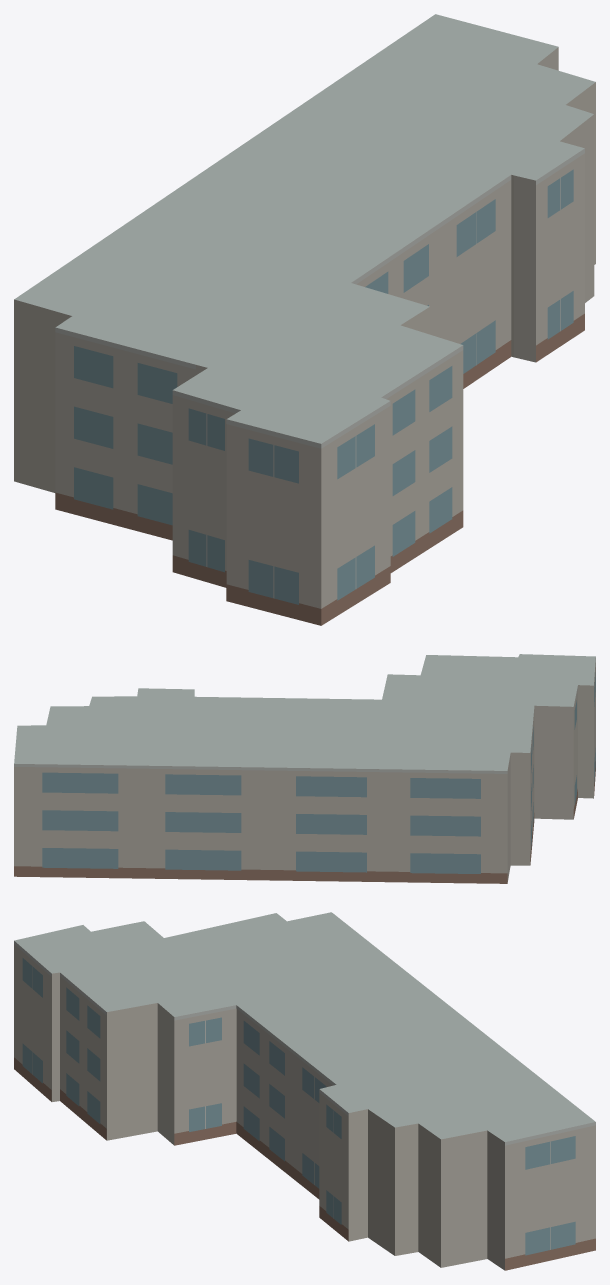
File: survey-upis-32998382.glb
3 views of the same model, one above another, from view 1: azimuth 30°, elevation 25°; view 2: azimuth 150°, elevation 25°; view 3: azimuth 270°, elevation 25° (orthographic). The views are drawn at different scales.
Visible parts, largest first — view 1: survey-upis-32998382.tmp; view 2: survey-upis-32998382.tmp; view 3: survey-upis-32998382.tmp.
Part boxes in pixels (x1,y1,x2,y2): survey-upis-32998382.tmp: (14,14,595,625); survey-upis-32998382.tmp: (14,654,595,883); survey-upis-32998382.tmp: (14,912,595,1270).
Size of the model in its own units: 35.13 by 9.15 by 37.55.
